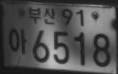1: (73, 31, 88, 66), (76, 8, 87, 27)
5: (51, 30, 70, 64)
6: (32, 30, 50, 63)
8: (92, 32, 111, 67)
9: (61, 8, 73, 26)
부산_H: (28, 6, 56, 25)
아: (7, 27, 27, 55)
